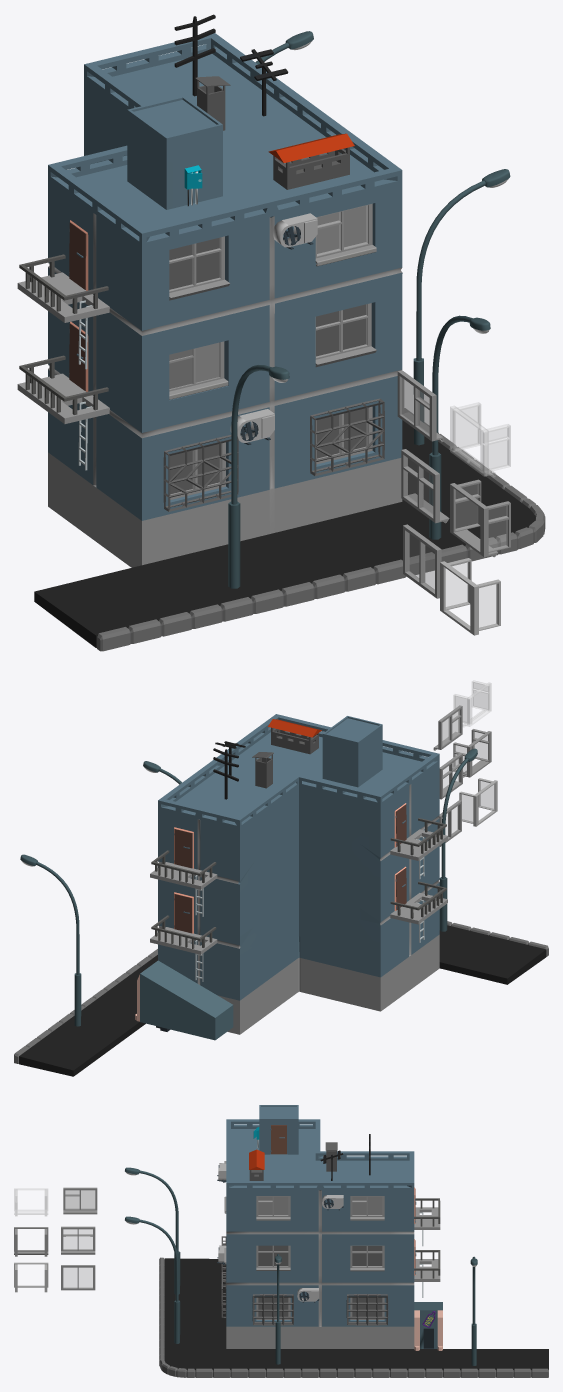
The model's file is PanelHouse.fbx.
3 views of the same model, one above another, from view 1: azimuth 30°, elevation 25°; view 2: azimuth 150°, elevation 25°; view 3: azimuth 270°, elevation 25° (orthographic). The views are drawn at different scales.
Visible parts, largest first — view 1: House, Road, ExitToTheRoof, Curb, FireExit.002, FireExit.003, WindowOpen2, Flue2, WindowOpen3, WindowOpen1, Window2, Window2.001 (+17 smaller); view 2: House, Road, Bar, ExitToTheRoof, FireExit, FireExit.001, FireExit.003, FireExit.002, Curb, Flue2, WindowOpen3, WindowOpen2 (+7 smaller); view 3: House, Road, Curb, ExitToTheRoof, Bar, Window2.004, Window1.004, Window2.003, Grid2, Window3.004, Grid2.001, Window1.003 (+14 smaller).
Part boxes in pixels (<box>): House: <box>48,33,402,567</box>; Road: <box>34,420,534,647</box>; ExitToTheRoof: <box>127,96,222,209</box>; Curb: <box>97,408,545,651</box>; FireExit.002: <box>17,220,109,369</box>; FireExit.003: <box>17,321,109,470</box>; WindowOpen2: <box>450,479,510,557</box>; Flue2: <box>268,133,354,189</box>; WindowOpen3: <box>440,558,500,635</box>; WindowOpen1: <box>450,402,510,477</box>; Window2: <box>315,303,376,367</box>; Window2.001: <box>169,236,230,300</box>; House: <box>158,714,439,1034</box>; Road: <box>19,925,546,1076</box>; Bar: <box>135,960,233,1040</box>; ExitToTheRoof: <box>322,716,382,787</box>; FireExit: <box>150,892,217,981</box>; FireExit.001: <box>150,827,217,916</box>; FireExit.003: <box>390,866,447,942</box>; FireExit.002: <box>390,803,447,879</box>; Curb: <box>14,921,548,1063</box>; Flue2: <box>268,719,321,754</box>; WindowOpen3: <box>459,778,497,826</box>; WindowOpen2: <box>453,729,491,777</box>; House: <box>226,1119,414,1348</box>; Road: <box>164,1258,548,1369</box>; Curb: <box>159,1257,548,1377</box>; ExitToTheRoof: <box>253,1105,298,1154</box>; Bar: <box>414,1302,442,1350</box>; Window2.004: <box>61,1226,95,1254</box>; Window1.004: <box>63,1187,97,1214</box>; Window2.003: <box>350,1245,384,1271</box>; Grid2: <box>346,1294,388,1325</box>; Window3.004: <box>61,1265,95,1290</box>; Grid2.001: <box>252,1294,293,1325</box>; Window1.003: <box>256,1196,290,1220</box>.
Bounding box in the file's own units: 3239 × 2407 × 5691.
2 materials, 1 textured.
